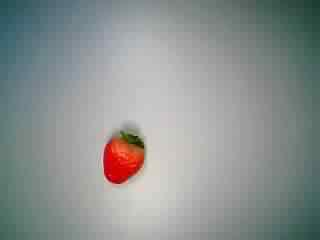strawberry: (88, 123, 156, 187)
